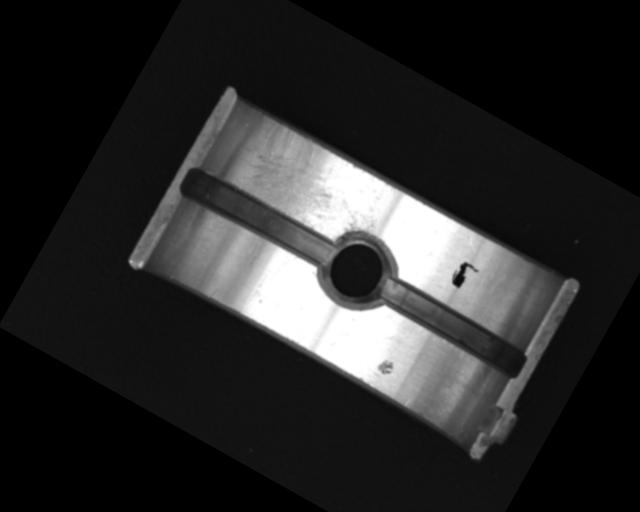blot: (447, 257, 481, 293)
bruise: (374, 355, 396, 377)
gap: (175, 160, 340, 276), (373, 272, 529, 379)
hole: (309, 220, 406, 320)
scratch: (217, 107, 399, 256)
